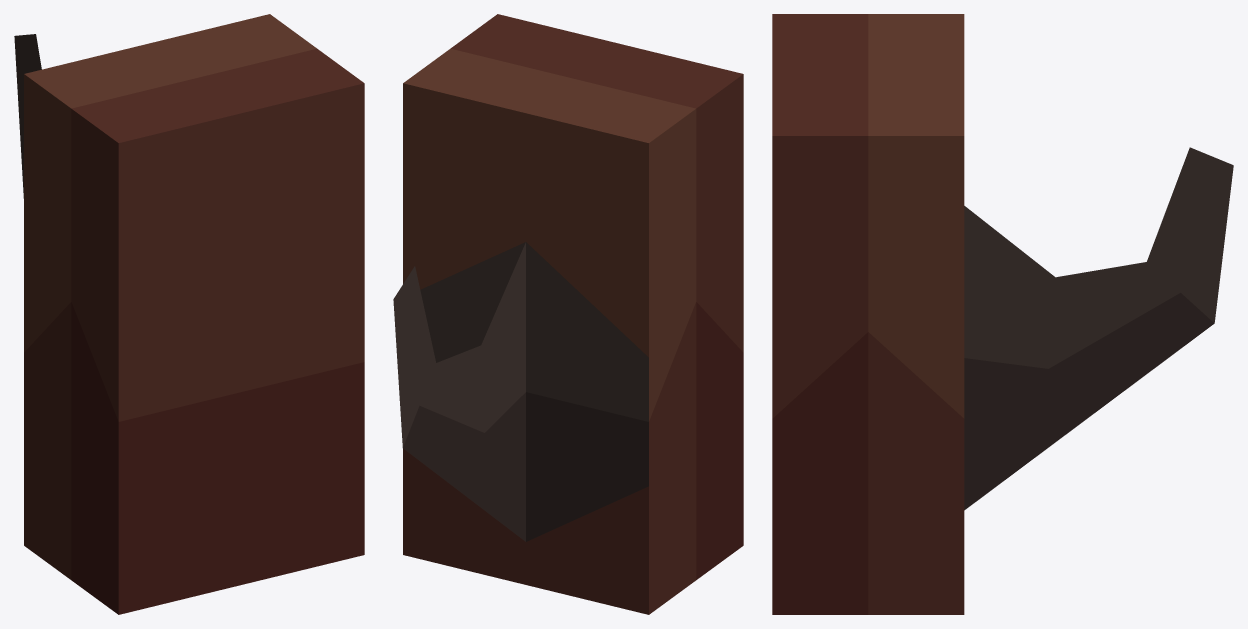
Rendered from workshopHook1.fbx.
The picture shows the model from 3 angles, left to right: view 1: azimuth 30°, elevation 25°; view 2: azimuth 150°, elevation 25°; view 3: azimuth 270°, elevation 25°; orthographic projection.
Visible parts, largest first — view 1: hook; view 2: hook; view 3: hook.
Boxes of the visible parts, x1=… form: hook: x1=14, y1=14, x2=364, y2=614; hook: x1=393, y1=14, x2=743, y2=614; hook: x1=772, y1=14, x2=1233, y2=614.
Bounding box in the file's own units: 18.75 × 34.38 × 30.01.
Materials: 1 (1 with a texture image).
